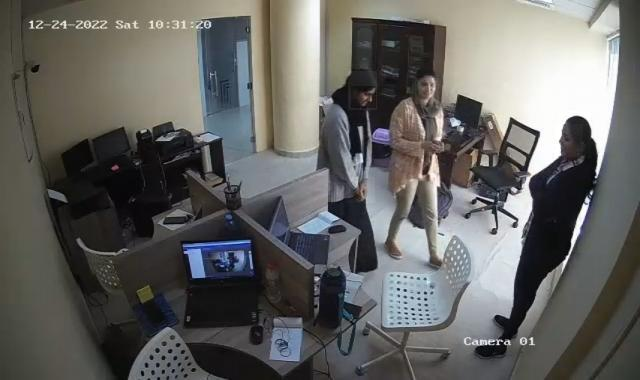no_apron: (345, 177, 375, 203), (419, 140, 439, 154), (433, 139, 450, 155)
no_gloves: (559, 111, 591, 158), (348, 71, 377, 110), (415, 70, 437, 105)
no_hairnet: (556, 124, 584, 157), (415, 79, 439, 105), (352, 86, 376, 108)
